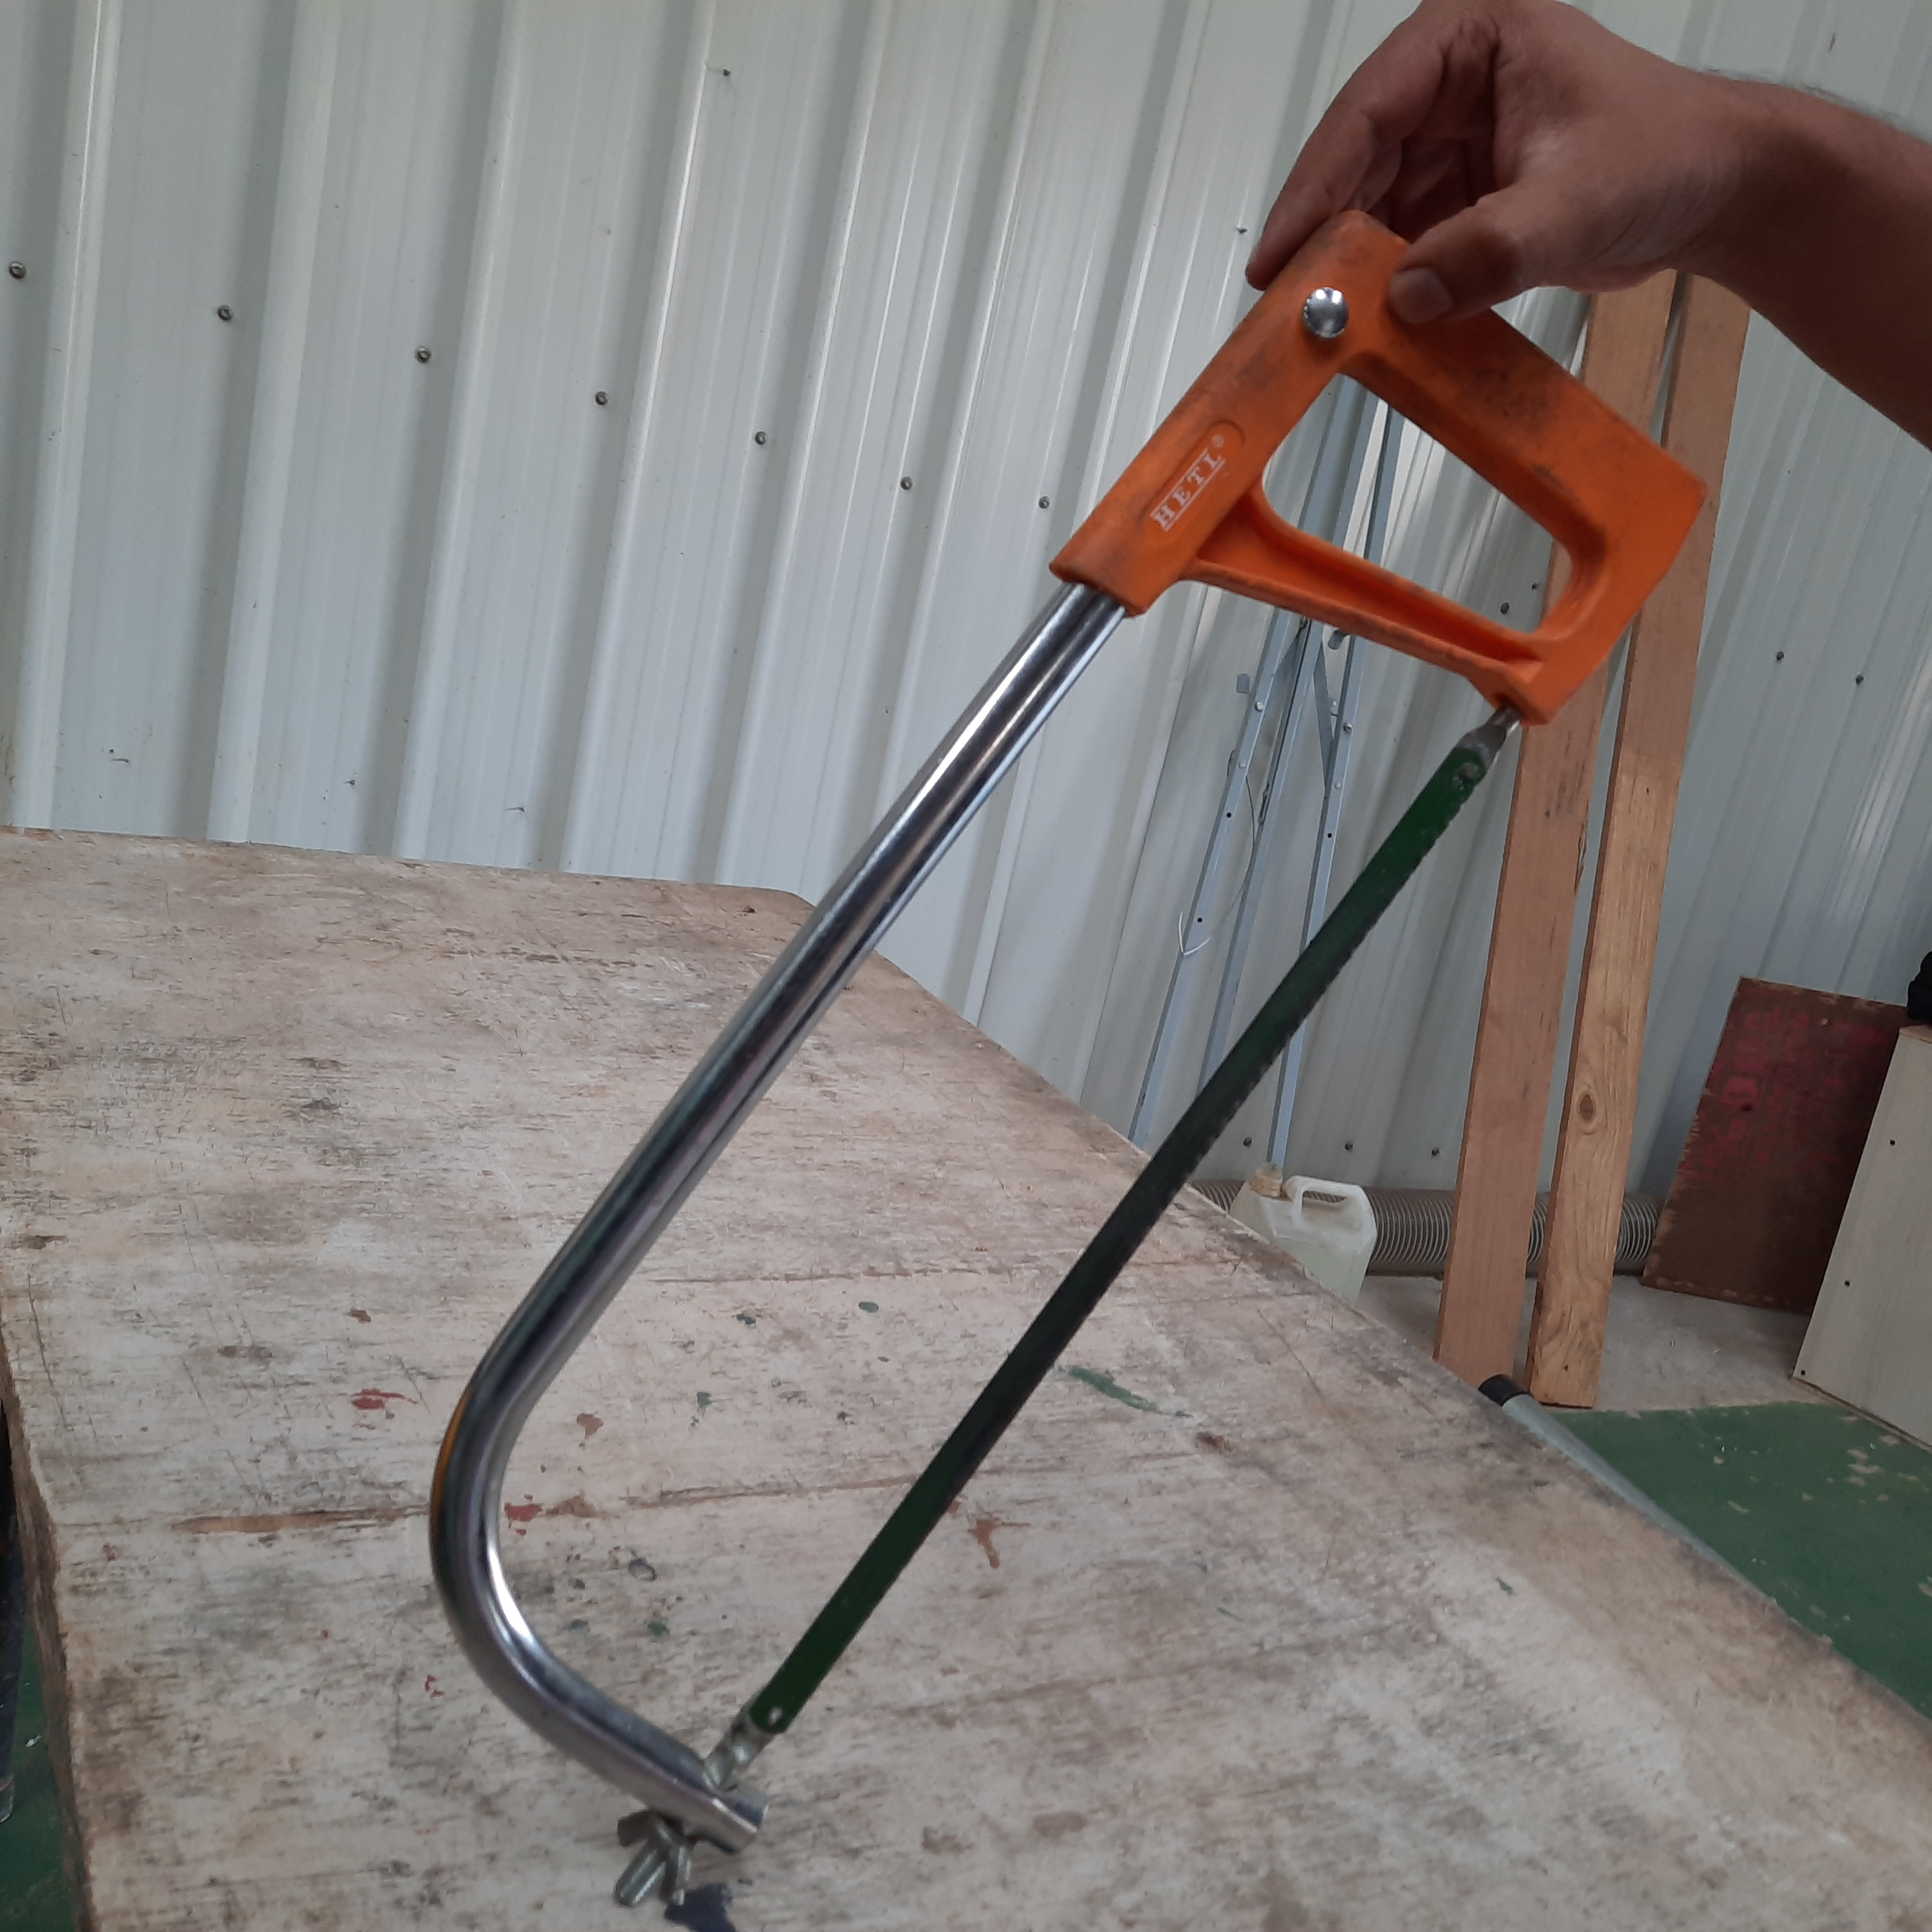Hexaframe: (386, 196, 1723, 1888)
